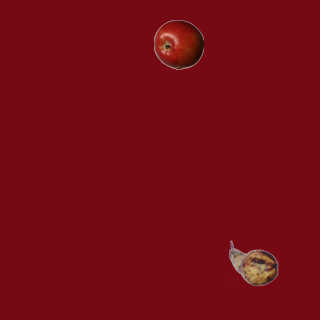Apple Braeburn: (153, 19, 203, 69)
Pear Abate: (228, 238, 278, 288)
